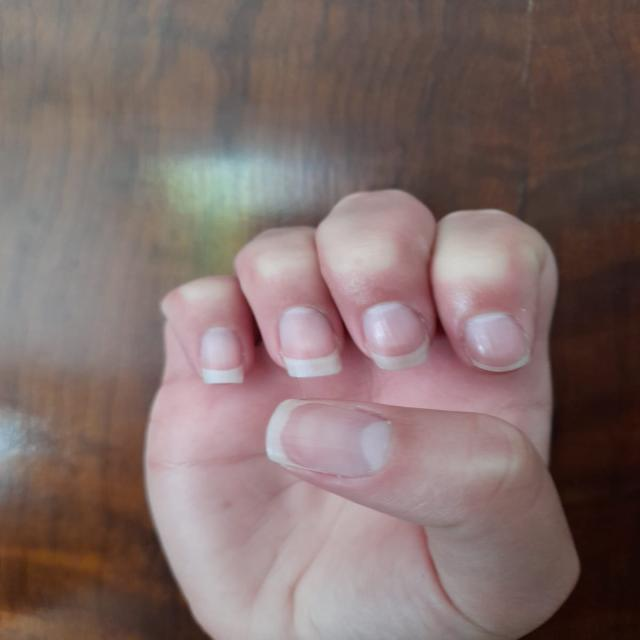E: (104, 166, 595, 640)
